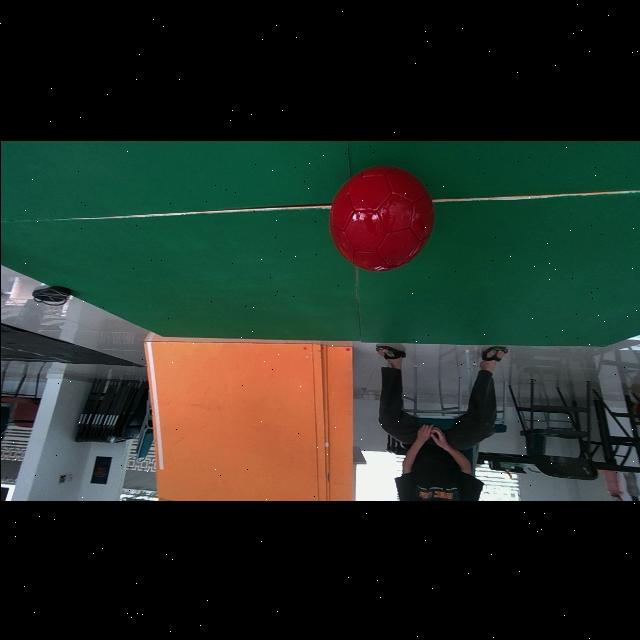R: (329, 165, 433, 270)
